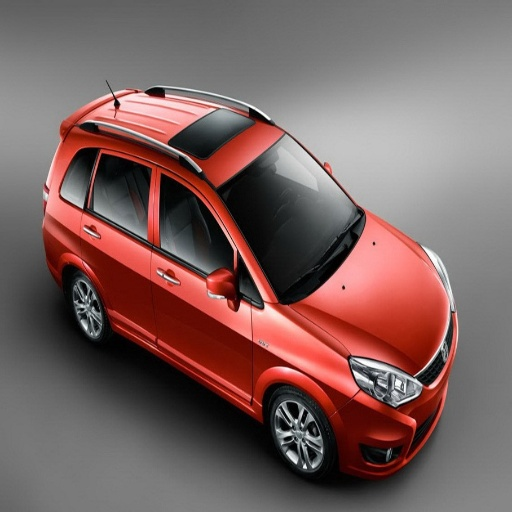front_bumper: (332, 367, 449, 477)
front_right_door: (151, 163, 258, 403)
front_right_light: (350, 358, 416, 406)
